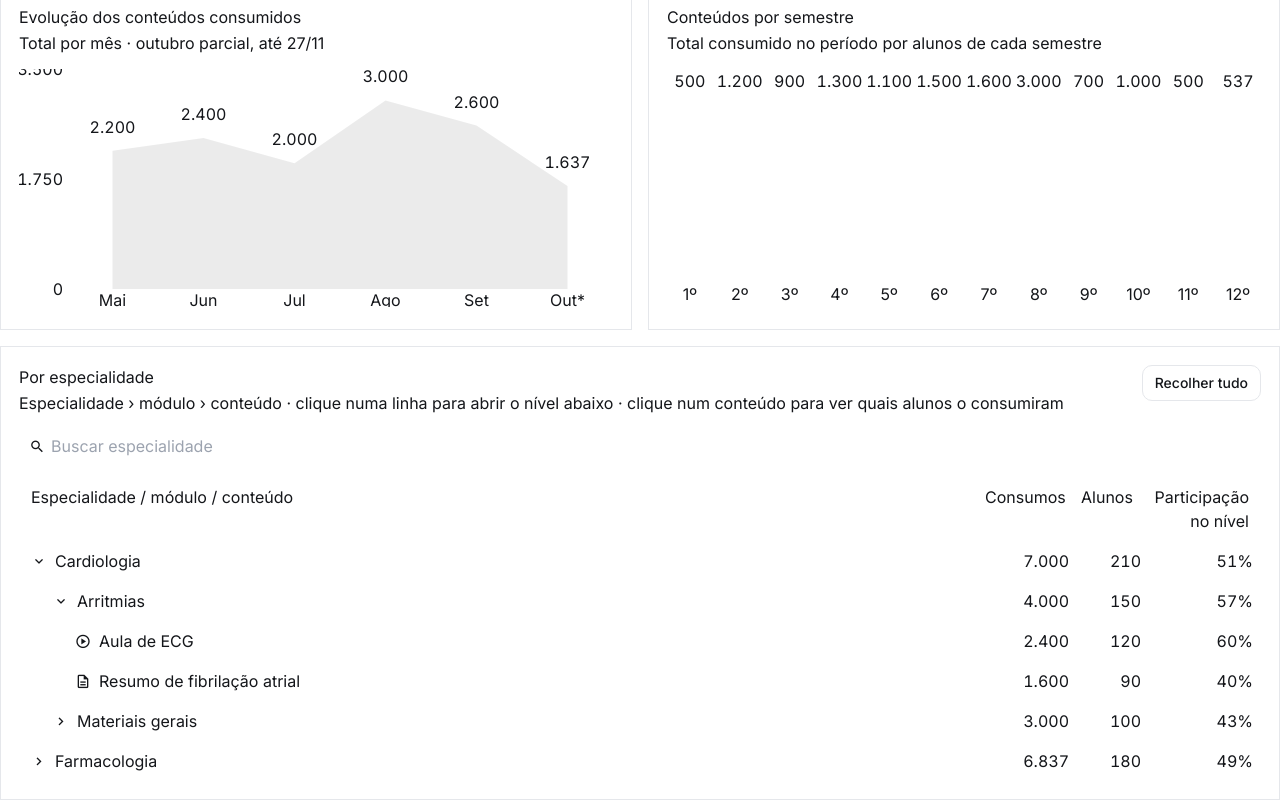
acessibilidade — Engajamento: as três abas (spec §15.2) › Conteúdos com o pop-up do conteúdo aberto: sem violações de axe
The width and height of the screenshot is (1280, 800).
(page scrolled)
Click the button with aria-label "Ver alunos que consumiram Aula de ECG" at (146, 641), box [99,629,194,653]
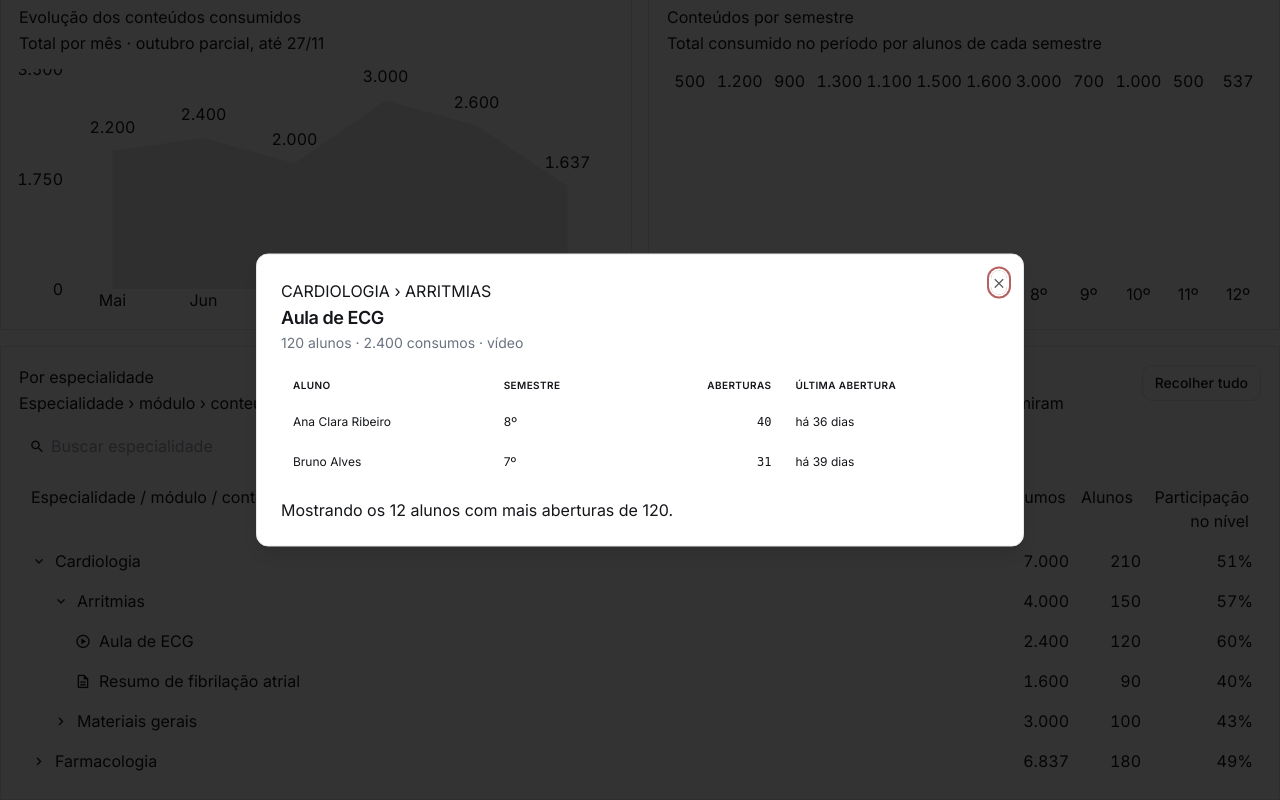
Expected: the dialog is shown, [256,254,1024,546]
